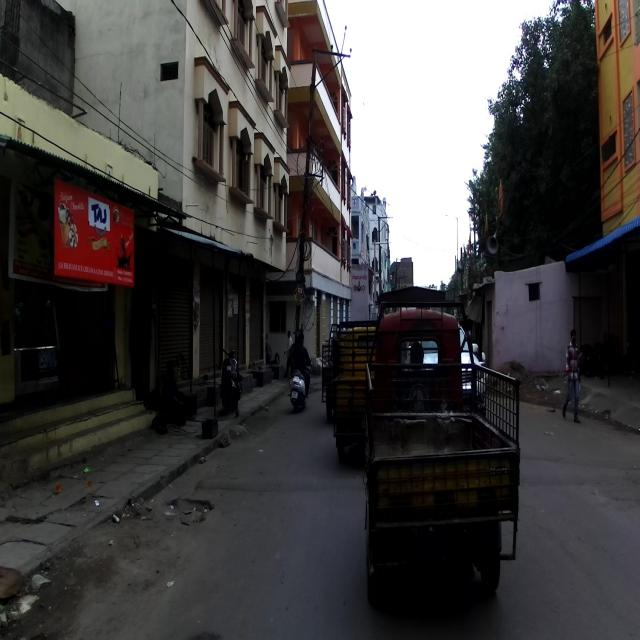autorickshaw: (362, 284, 521, 605), (330, 318, 379, 460)
scooter: (219, 345, 241, 412), (289, 362, 307, 412)
